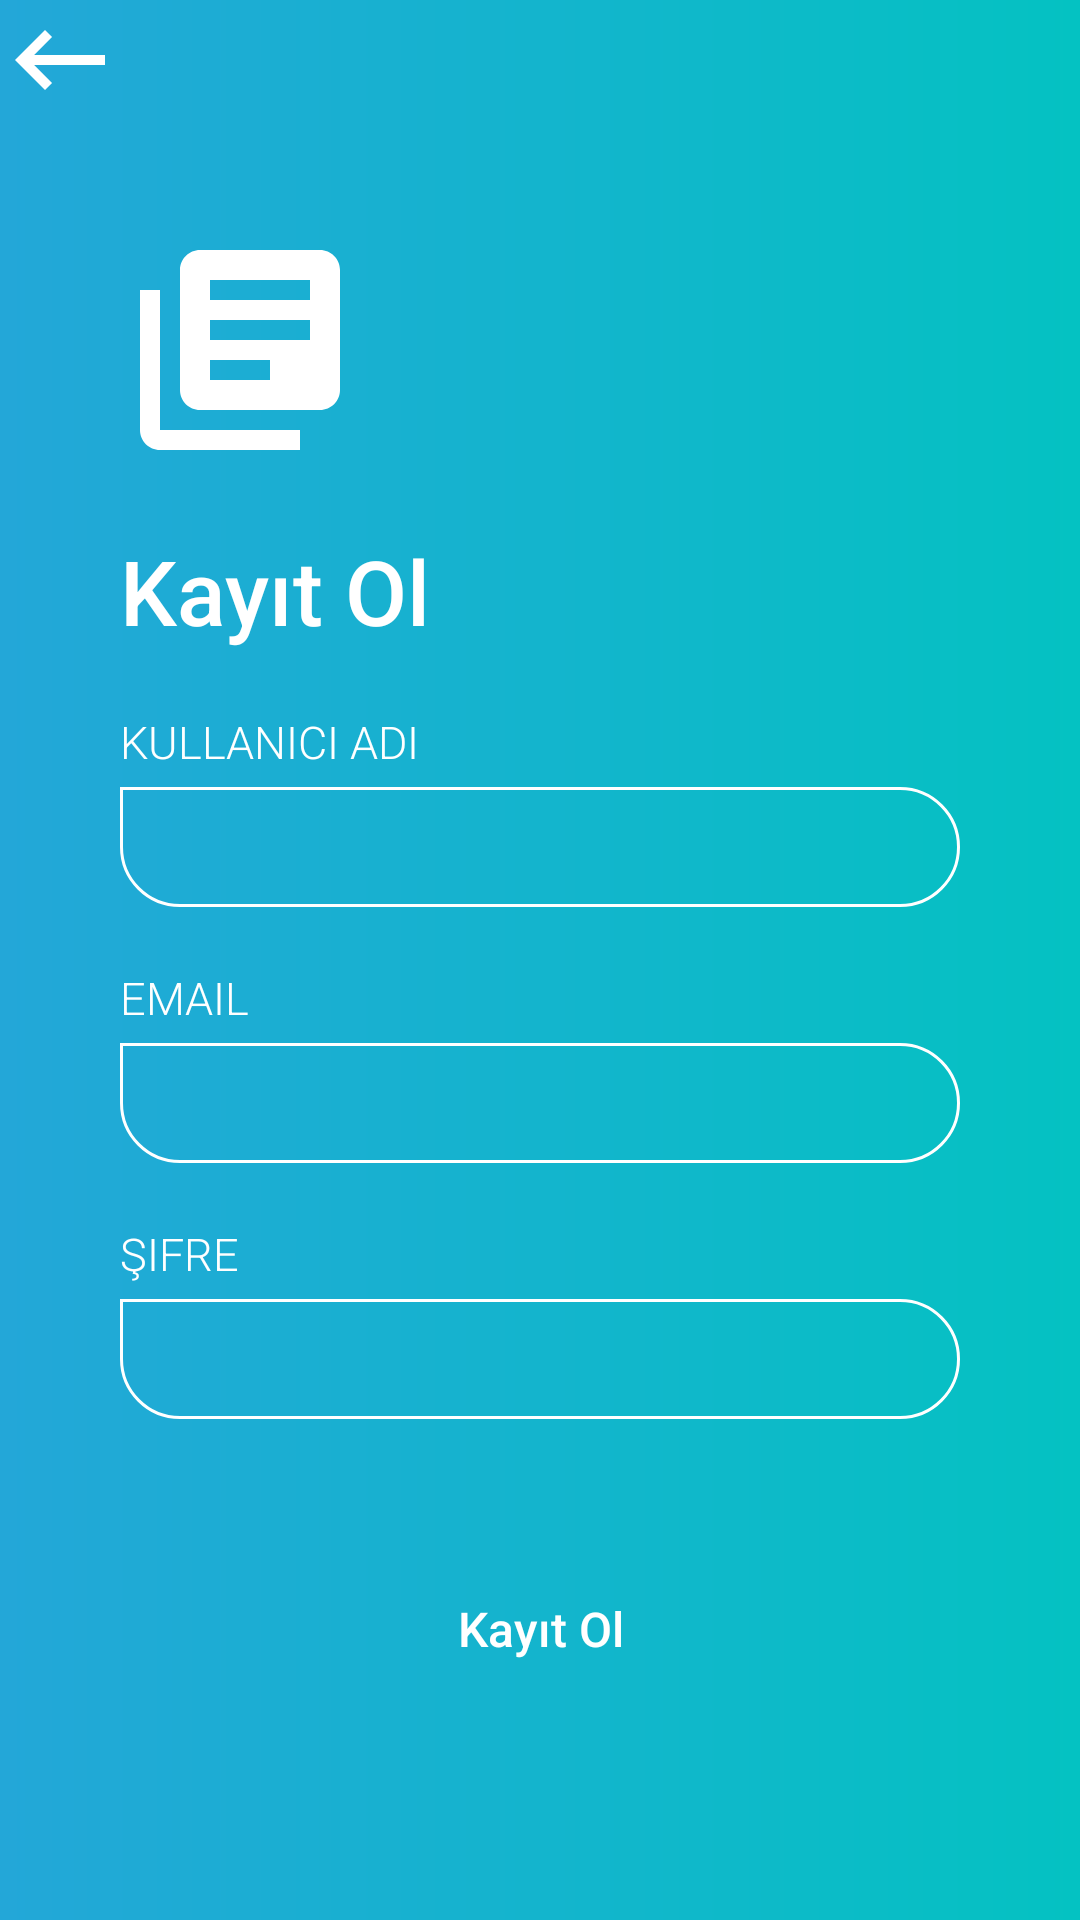

Icons on this 1080 × 1920 Android screen, each with its box as (x1, y1, x2, y2):
back: (15, 30, 105, 90)
library books: (140, 250, 340, 450)
